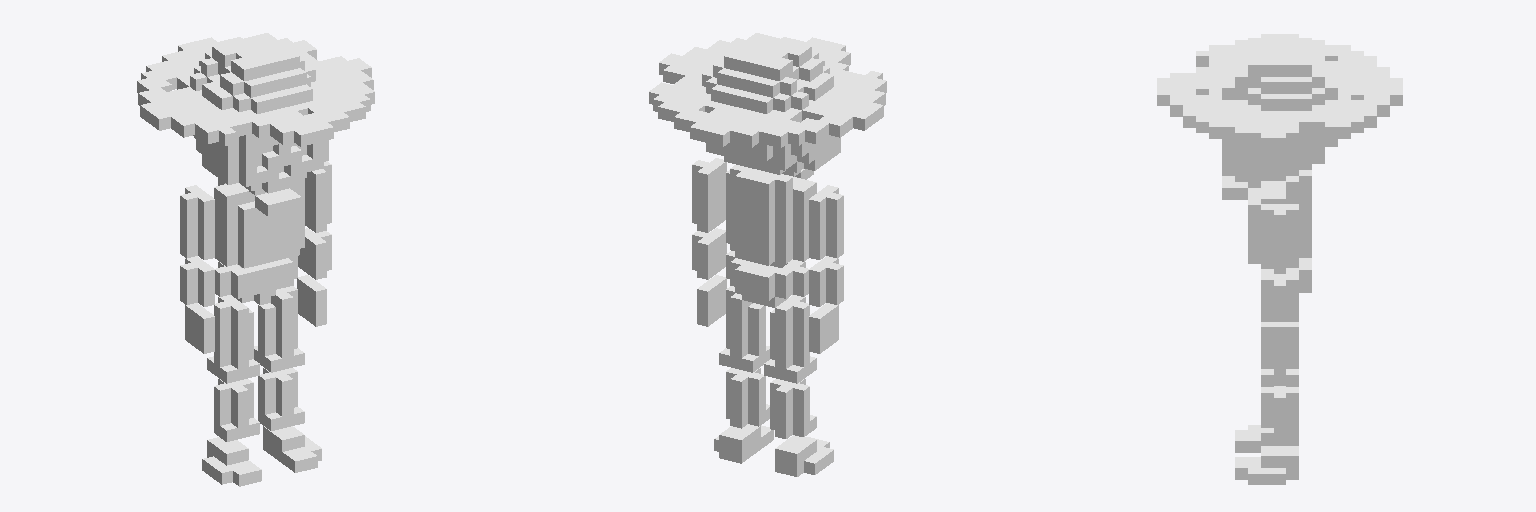
File: Zombie+Luchador-2-Zombie.obj
3 views of the same model, side by side, from view 1: azimuth 30°, elevation 25°; view 2: azimuth 150°, elevation 25°; view 3: azimuth 270°, elevation 25° (orthographic).
Parts seen in each view (by area): view 1: Zombie; view 2: Zombie; view 3: Zombie.
Part boxes in pixels (bbox=[...]): Zombie: bbox=[137, 33, 374, 486]; Zombie: bbox=[649, 33, 886, 476]; Zombie: bbox=[1157, 34, 1402, 484].
Size of the model in its own units: 1.9 by 3.5 by 1.9.